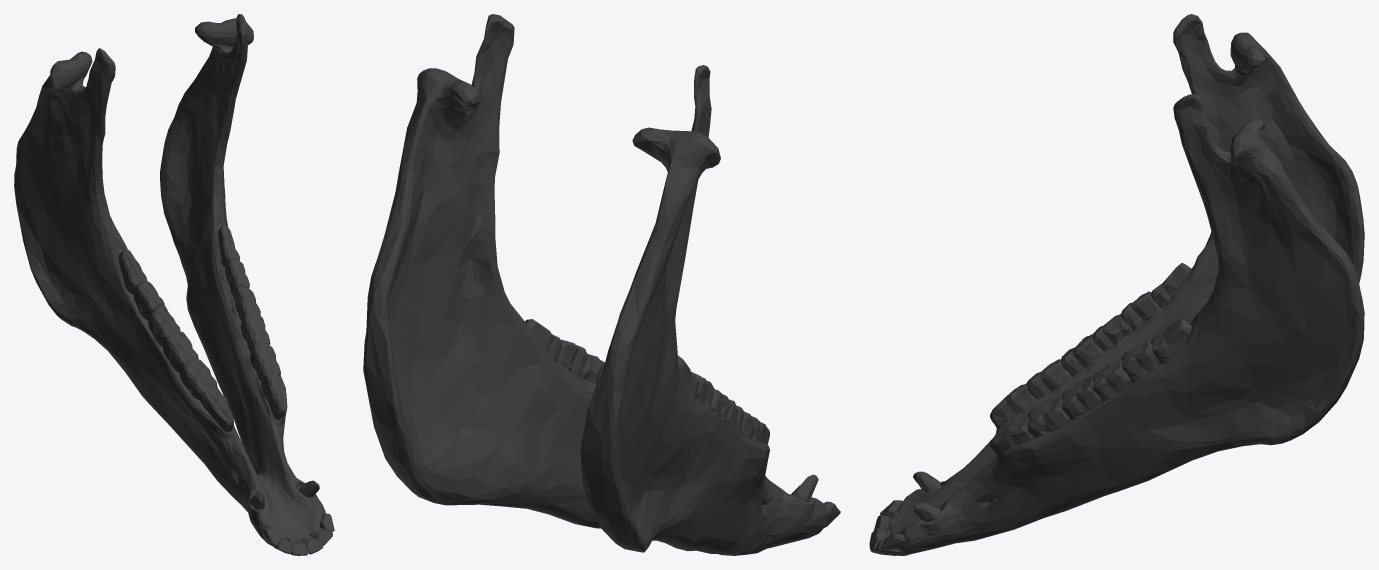
File: skel_mandible.glb
3 renders of one model, left to right at view 1: azimuth 30°, elevation 25°; view 2: azimuth 150°, elevation 25°; view 3: azimuth 270°, elevation 25°, orthographic. The views are drawn at different scales.
Parts seen in each view (by area): view 1: skel_mandible; view 2: skel_mandible; view 3: skel_mandible.
Part boxes in pixels (x1,y1,x2,y2): skel_mandible: [14, 14, 334, 555]; skel_mandible: [363, 14, 840, 555]; skel_mandible: [869, 14, 1364, 555].
Size of the model in its own units: 0.00315 by 0.00634 by 0.00574.
1 material, 1 textured.
